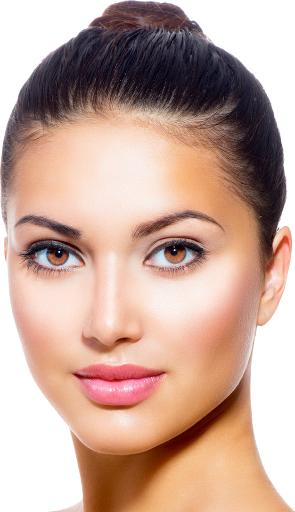left_eye: (141, 238, 211, 275)
left_lip_corner: (157, 362, 173, 384)
right_eye: (19, 241, 87, 275)
right_lip_corner: (70, 366, 84, 385)
